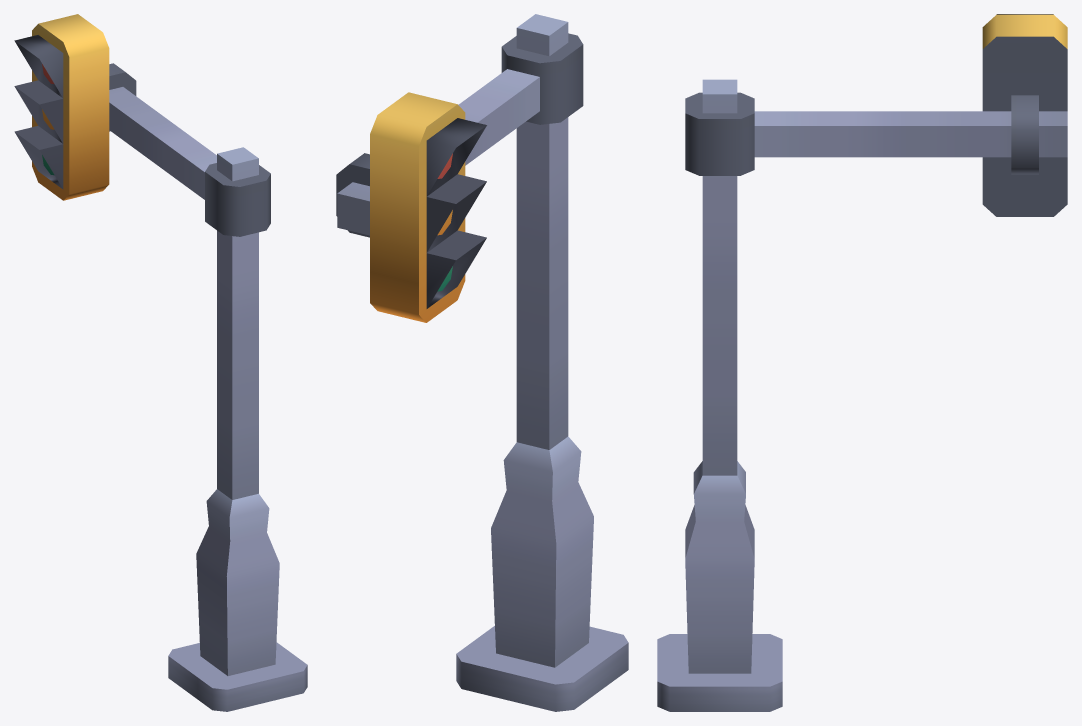
File: traffic-light-hanging.glb
3 views of the same model, side by side, from view 1: azimuth 30°, elevation 25°; view 2: azimuth 150°, elevation 25°; view 3: azimuth 270°, elevation 25° (orthographic). The views are drawn at different scales.
Parts seen in each view (by area): view 1: traffic-light-hanging; view 2: traffic-light-hanging; view 3: traffic-light-hanging.
Part boxes in pixels (x1,y1,x2,y2): traffic-light-hanging: [14, 14, 307, 711]; traffic-light-hanging: [336, 14, 628, 711]; traffic-light-hanging: [657, 14, 1067, 711].
Size of the model in its own units: 0.1176 by 0.5091 by 0.295.
1 material, 1 textured.
